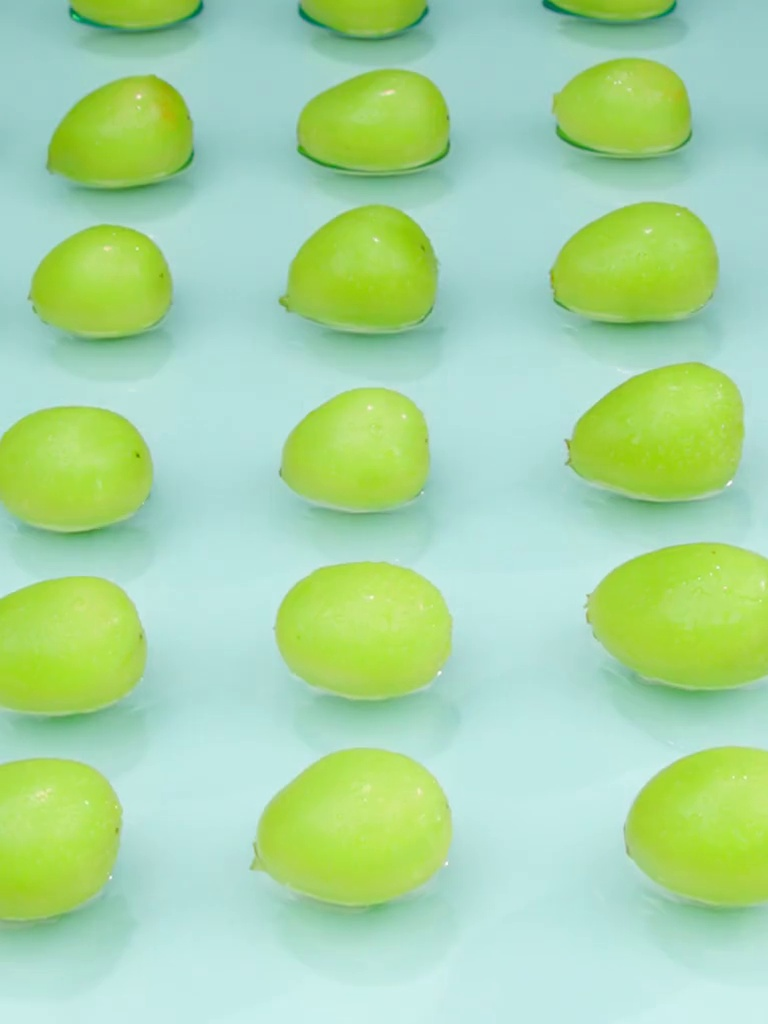grape: (260, 754, 459, 886), (273, 557, 446, 698)
